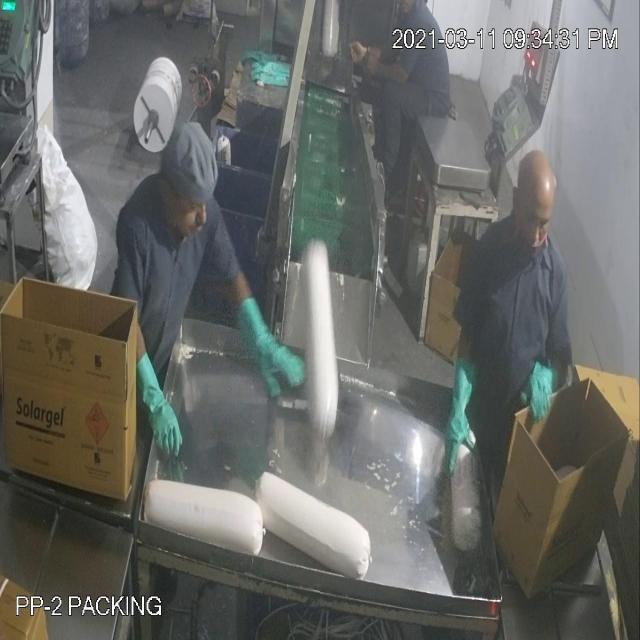No_Gloves: (34, 58, 540, 418)
